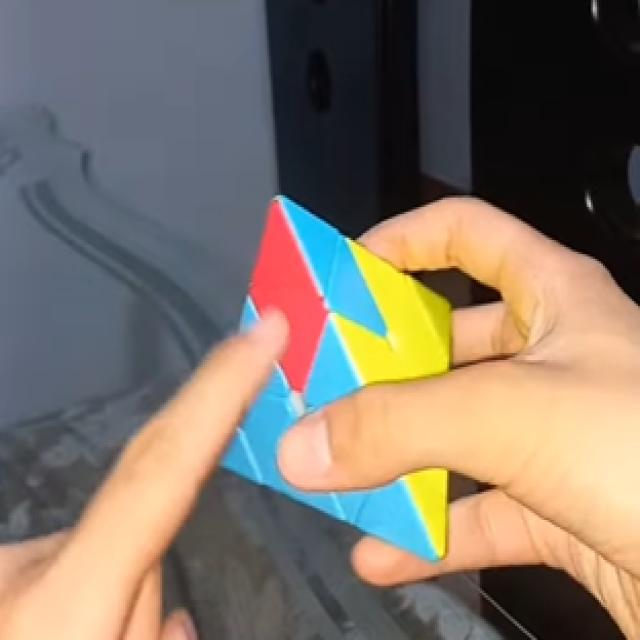Pyraminx: (224, 198, 449, 558)
